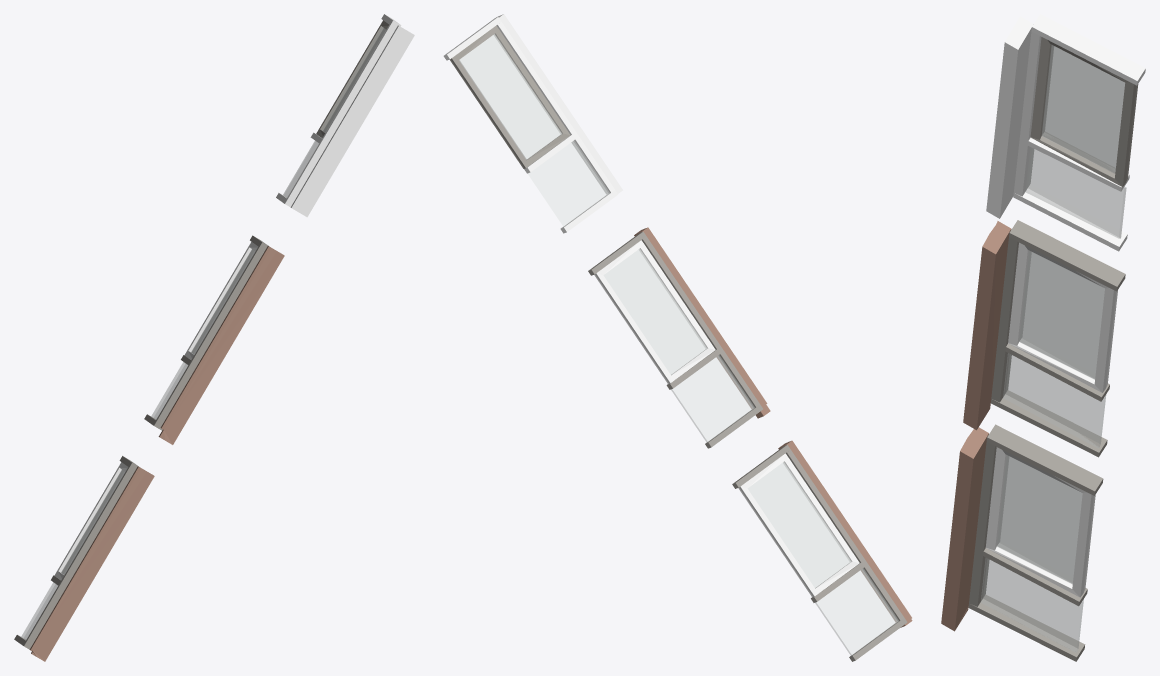
3 views of the same model, side by side, from view 1: azimuth 30°, elevation 25°; view 2: azimuth 150°, elevation 25°; view 3: azimuth 270°, elevation 25° (orthographic). The views are drawn at different scales.
Visible parts, largest first — view 1: mesh; view 2: mesh; view 3: mesh.
Part boxes in pixels (box(x1,y1,x2,y2)): mesh: box(14, 14, 414, 661); mesh: box(443, 14, 912, 661); mesh: box(941, 14, 1145, 661).
Size of the model in its own units: 5.6 by 7.03 by 1.36.
